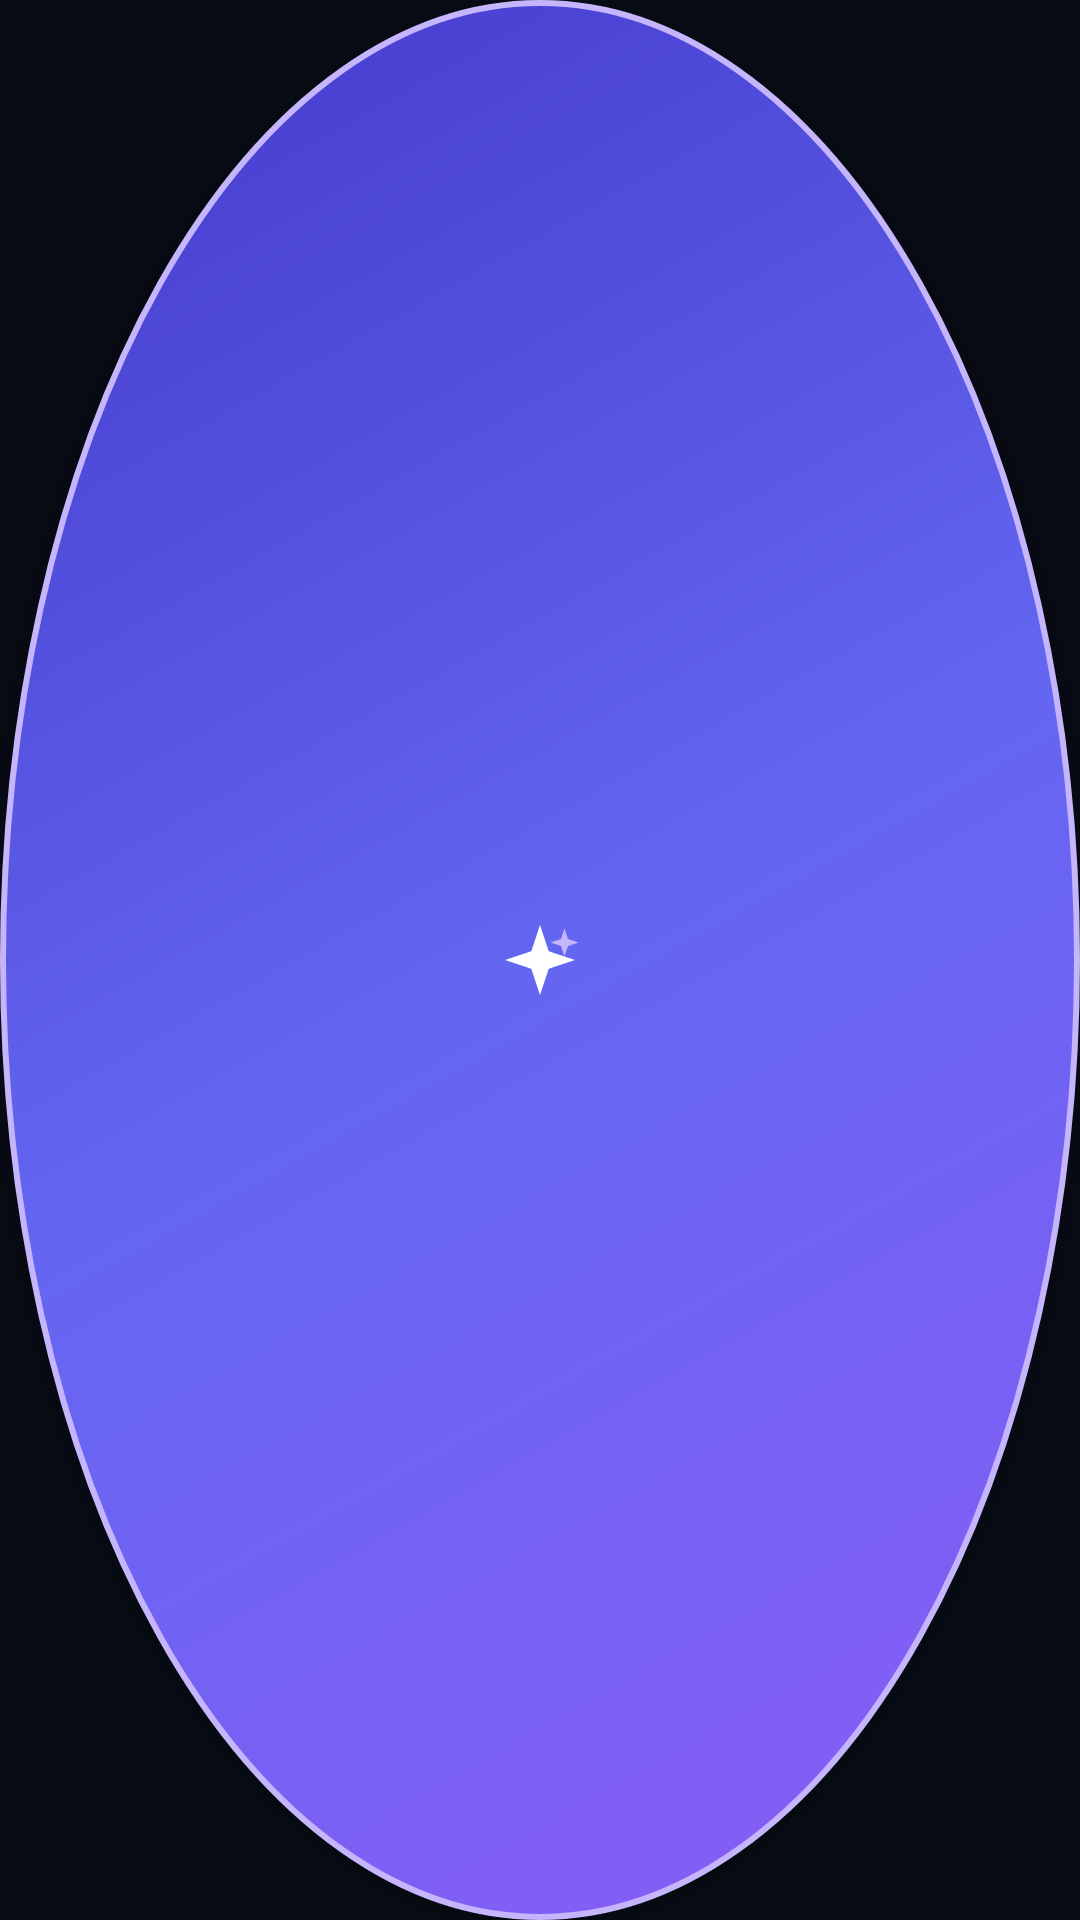

Screen size 1080 × 1920. Icon name, then its center in pixels as point (x, y):
AI Summarizer Bubble: point (542, 960)
